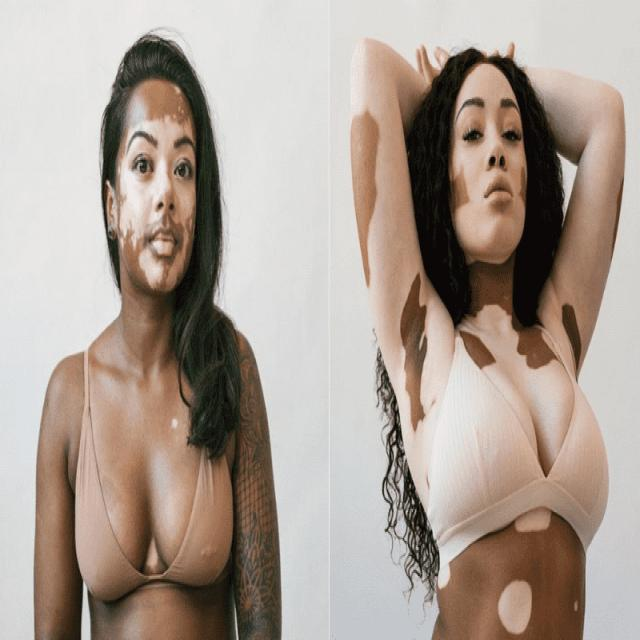vitiligo: (346, 74, 624, 455), (439, 502, 586, 640), (112, 95, 191, 296)
